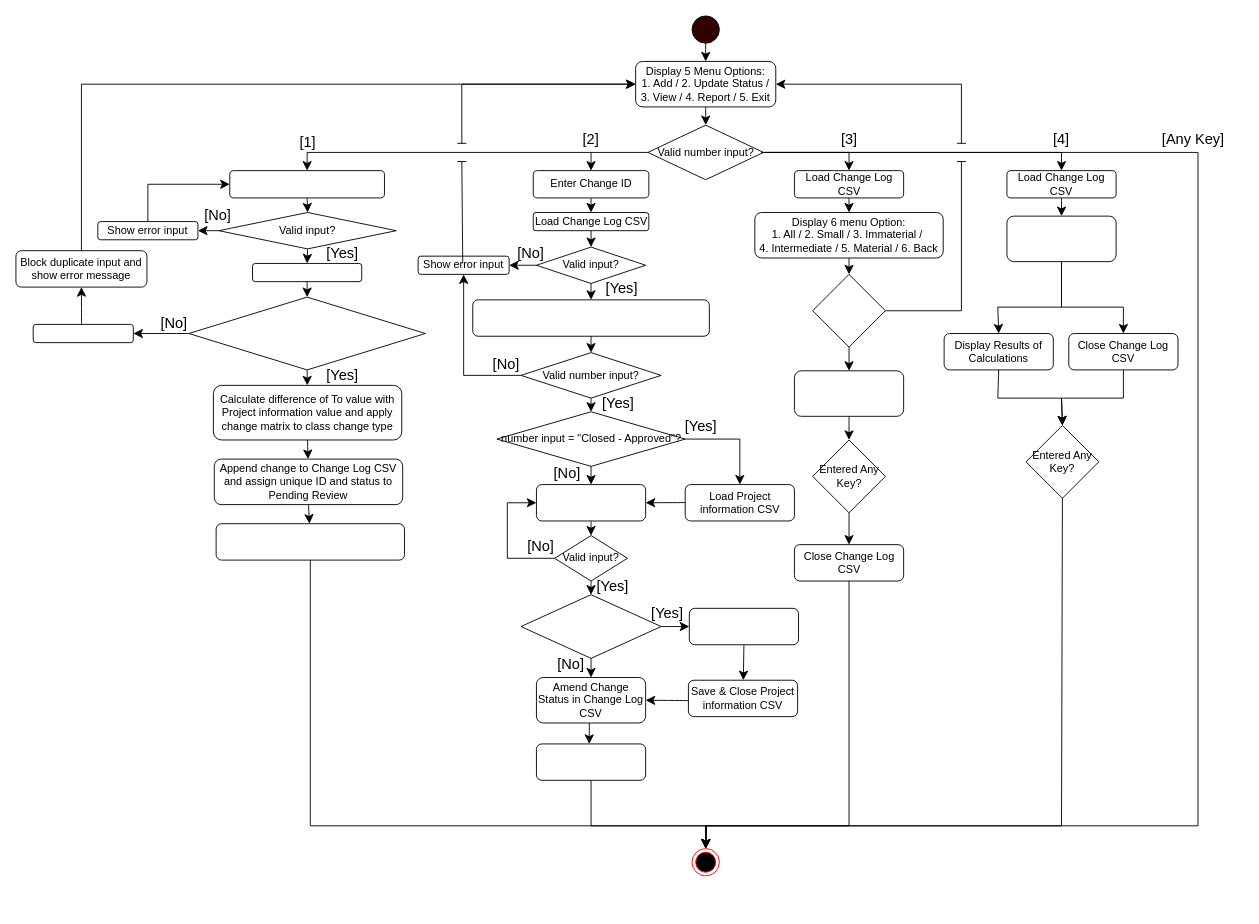
Some shapes in this 1259 by 924 pixel diagram are drawn without their labels. The shapes that lost their labels are listed below. From the top down, each one's box as (x1, y1, x2, y2) in pixels, then its label:
(229, 170, 384, 198): Enter Date of submission, Project ID, Field, and To value
(1006, 215, 1116, 262): Perform Predetermined Calculations
(252, 263, 362, 282): Load both CSV's
(472, 299, 709, 336): Display Current Status of Change ID and numbered options menu to change to
(812, 273, 885, 347): Valid Input or Not 6?
(32, 324, 133, 343): Close both CSV's
(188, 296, 425, 370): Submitted Project ID and Field already Open on change log CSV?
(794, 370, 904, 416): Display Change Log with applied Filter (if any)
(536, 484, 646, 521): Enter Date of Status change
(215, 523, 404, 560): Save CSV and show confirmation message
(520, 594, 661, 658): Is Project Information CSV Open?
(688, 607, 799, 645): Amend Project field with change To value
(536, 743, 646, 780): Save & Close Change Log CSV
